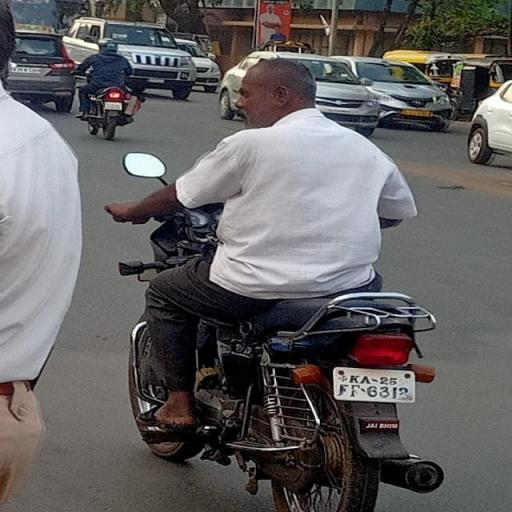bike: (103, 49, 475, 512)
numberplate: (334, 367, 417, 403)
withouthelmet: (243, 58, 317, 126)
